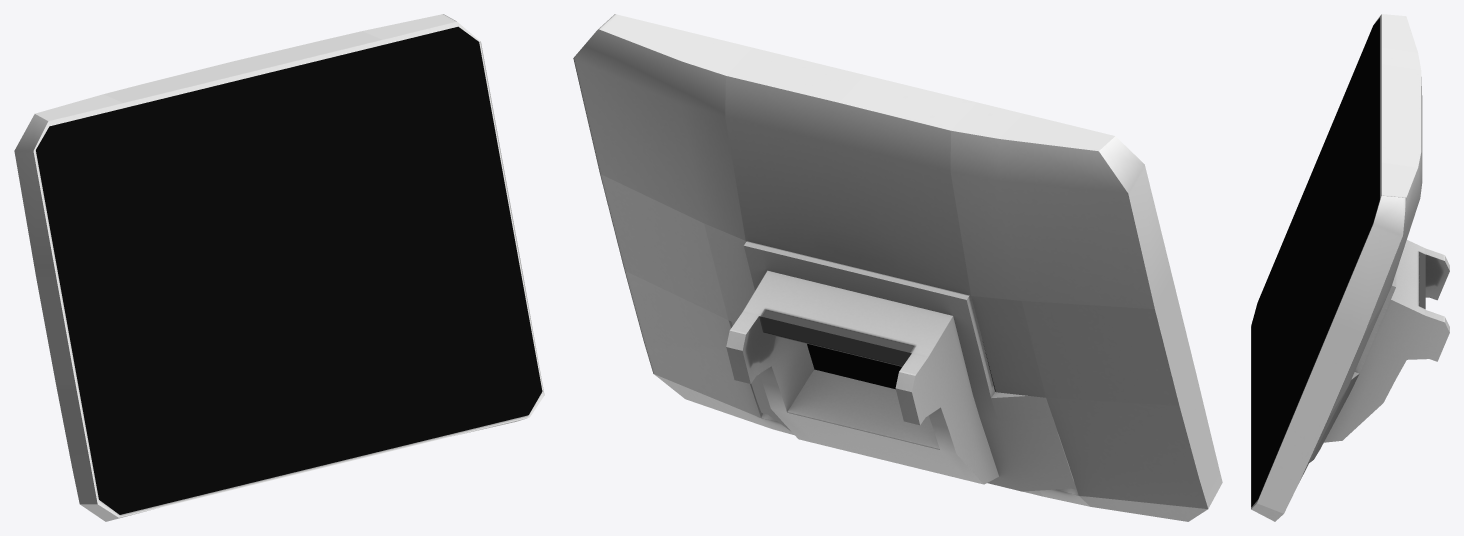
Rendered from UTC_211face.fbx.
The picture shows the model from 3 angles, left to right: view 1: azimuth 30°, elevation 25°; view 2: azimuth 150°, elevation 25°; view 3: azimuth 270°, elevation 25°; orthographic projection. The views are drawn at different scales.
Visible parts, largest first — view 1: A, C, B; view 2: B, E, A; view 3: A, B, E, C.
Part boxes in pixels (x1,y1,x2,y2): A: (53, 46, 525, 495); C: (36, 26, 542, 514); B: (14, 14, 544, 521); B: (573, 14, 1222, 521); E: (726, 241, 1076, 491); A: (807, 344, 995, 391); A: (1257, 34, 1372, 490); B: (1251, 14, 1422, 521); E: (1309, 240, 1449, 462); C: (1251, 18, 1379, 506).
Size of the model in its own units: 34.81 by 26.5 by 14.52.
